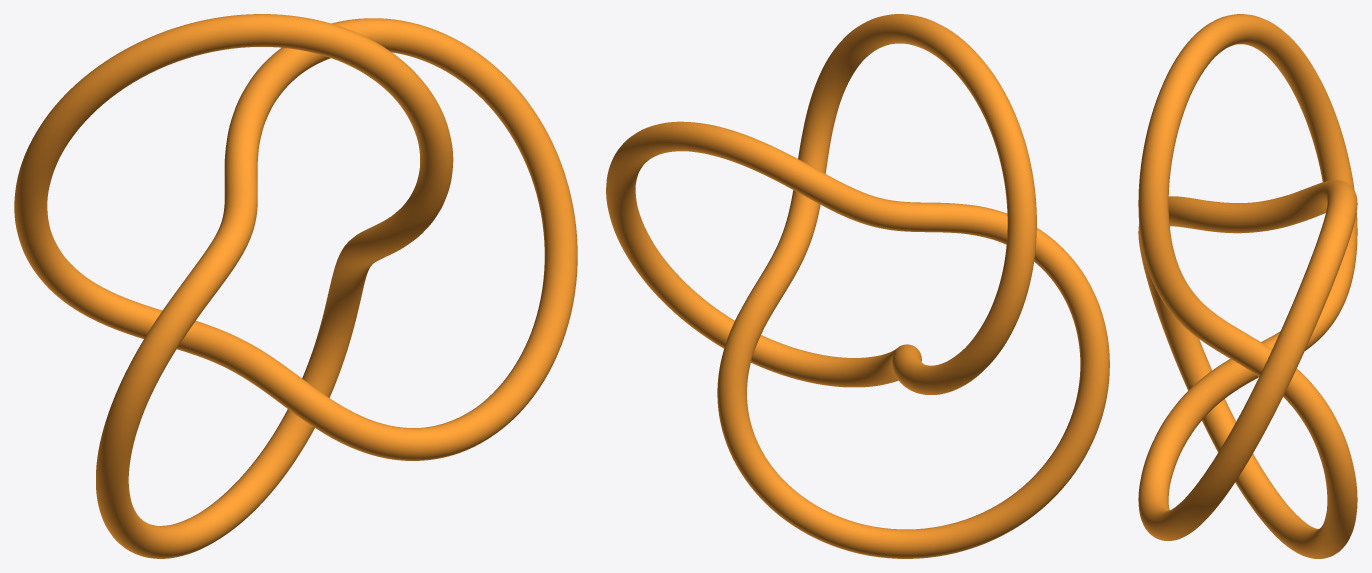
File: knot.obj
3 views of the same model, side by side, from view 1: azimuth 30°, elevation 25°; view 2: azimuth 150°, elevation 25°; view 3: azimuth 270°, elevation 25° (orthographic). The views are drawn at different scales.
Visible parts, largest first — view 1: knot; view 2: knot; view 3: knot.
Boxes of the visible parts, x1=… form: knot: x1=14, y1=14, x2=577, y2=558; knot: x1=606, y1=14, x2=1109, y2=558; knot: x1=1138, y1=14, x2=1357, y2=558.
Size of the model in its own units: 5.68 by 5.98 by 2.32.
